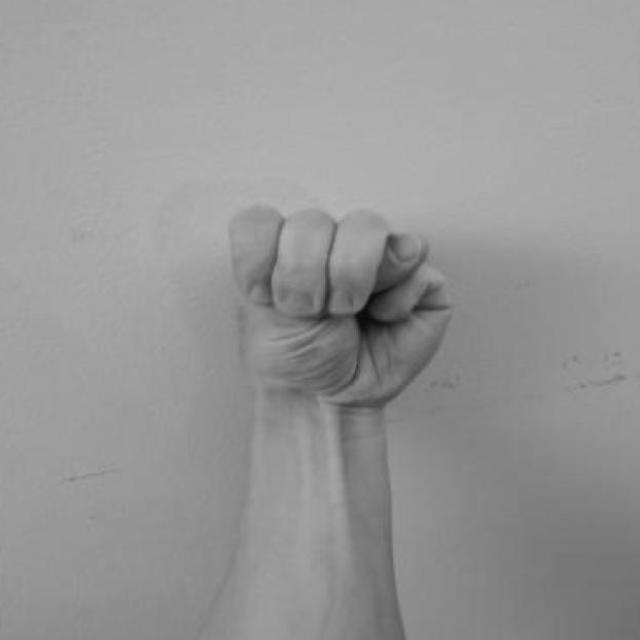M: (221, 192, 459, 425)
